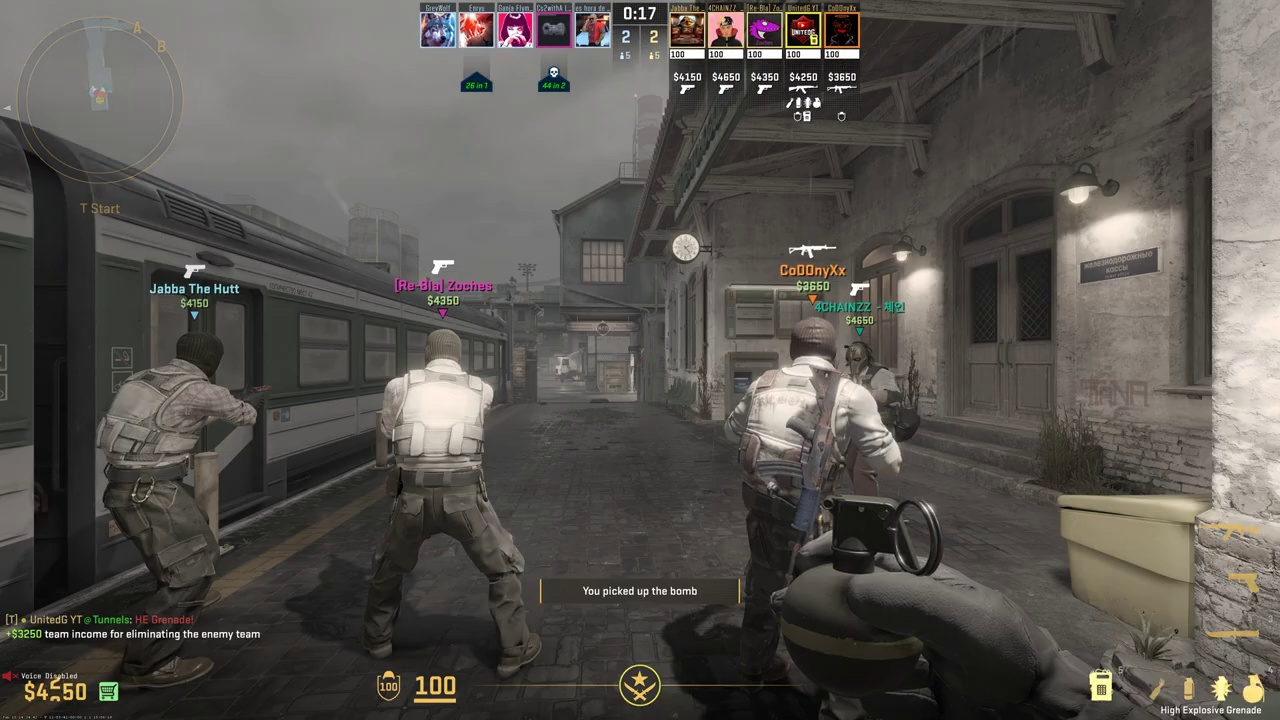Terrorist: (361, 328, 527, 673), (106, 330, 245, 690), (731, 318, 911, 587), (841, 341, 918, 426)
